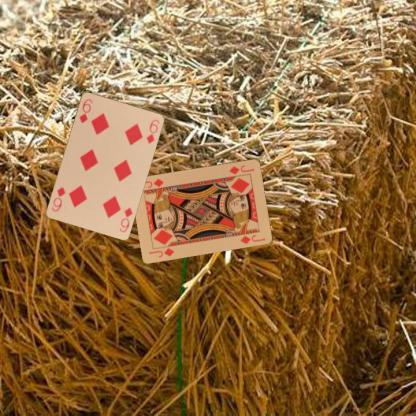6d: (116, 204, 134, 234), (76, 96, 94, 124)
Jd: (226, 162, 256, 176), (146, 245, 176, 259)
